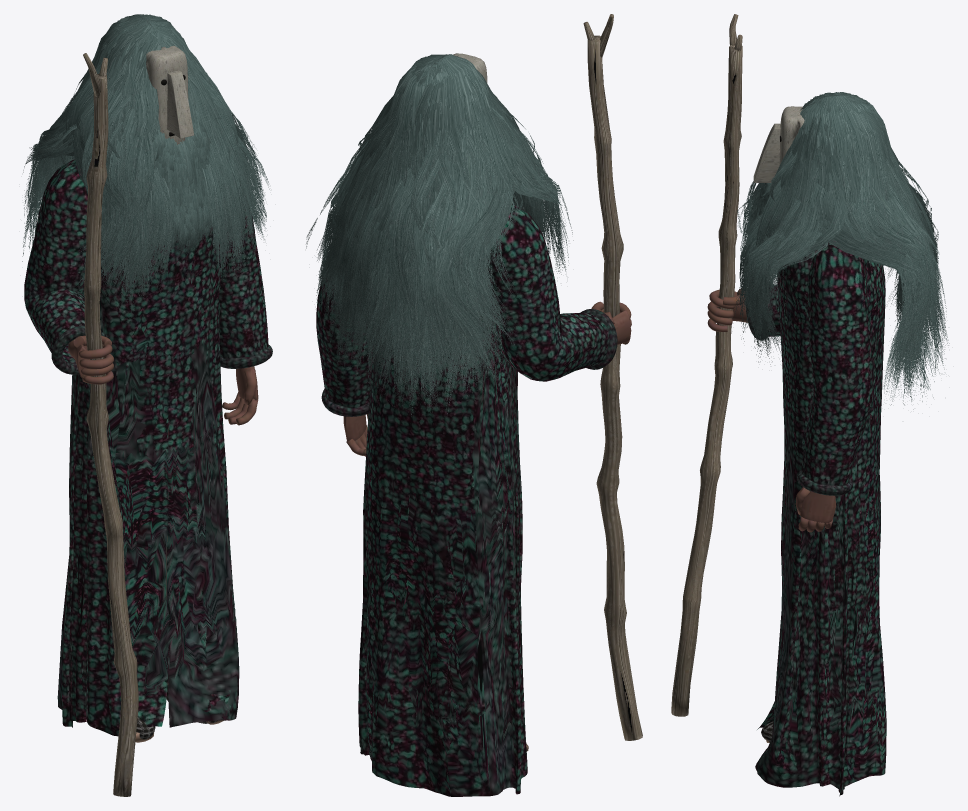
The model's file is keyumars.glb.
3 renders of one model, left to right at view 1: azimuth 30°, elevation 25°; view 2: azimuth 150°, elevation 25°; view 3: azimuth 270°, elevation 25°, orthographic. The views are drawn at different scales.
Visible parts, largest first — view 1: Rig_Body, Rig_Head, Rig_ArmR, Rig_ArmL, Rig_Face; view 2: Rig_Body, Rig_Head, Rig_ArmR, Rig_ArmL; view 3: Rig_Body, Rig_Head, Rig_ArmL, Rig_ArmR, Rig_Face.
Part boxes in pixels (bbox=[...]): Rig_Body: bbox=[57, 225, 239, 736]; Rig_Head: bbox=[22, 14, 269, 313]; Rig_ArmR: bbox=[24, 53, 138, 796]; Rig_ArmL: bbox=[219, 196, 272, 425]; Rig_Face: bbox=[146, 45, 194, 144]; Rig_Body: bbox=[358, 268, 527, 796]; Rig_Head: bbox=[306, 54, 573, 422]; Rig_ArmR: bbox=[487, 14, 642, 740]; Rig_ArmL: bbox=[316, 228, 371, 456]; Rig_Body: bbox=[755, 241, 886, 796]; Rig_Head: bbox=[734, 92, 949, 409]; Rig_ArmL: bbox=[795, 244, 873, 532]; Rig_ArmR: bbox=[671, 14, 780, 716]; Rig_Face: bbox=[753, 106, 804, 182].
Bounding box in the file's own units: 0.6977 × 1.94 × 0.7124.
Materials: 6 (6 with a texture image).
